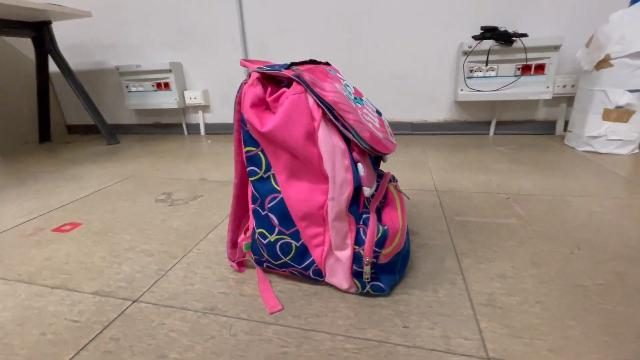Backpack: (219, 52, 417, 320)
